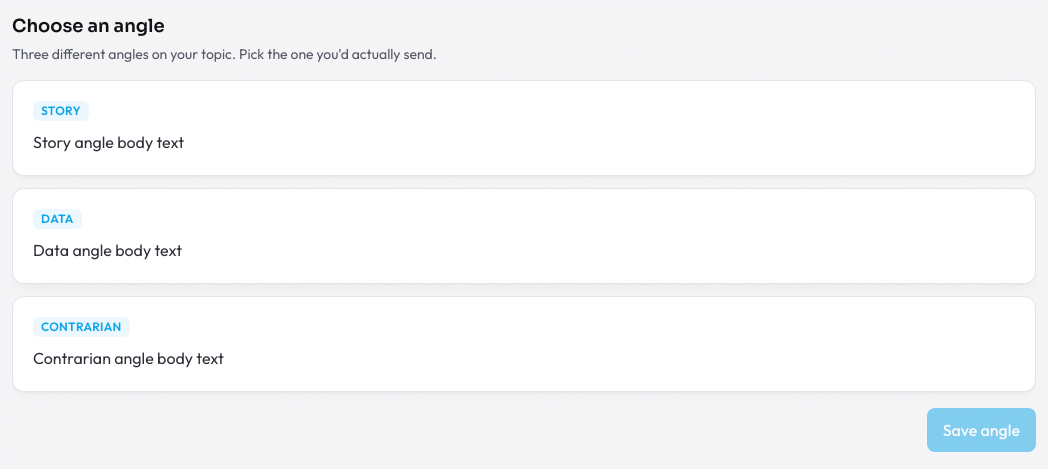
AngleSelection › awaiting selection (selectedOptionId === null) › enables the Save angle button once a card is selected
The image size is (1048, 469).
Click the radio button labelled "Story Story angle body text". click: [61, 111]
box: x1=12 y1=80 x2=1036 y2=176
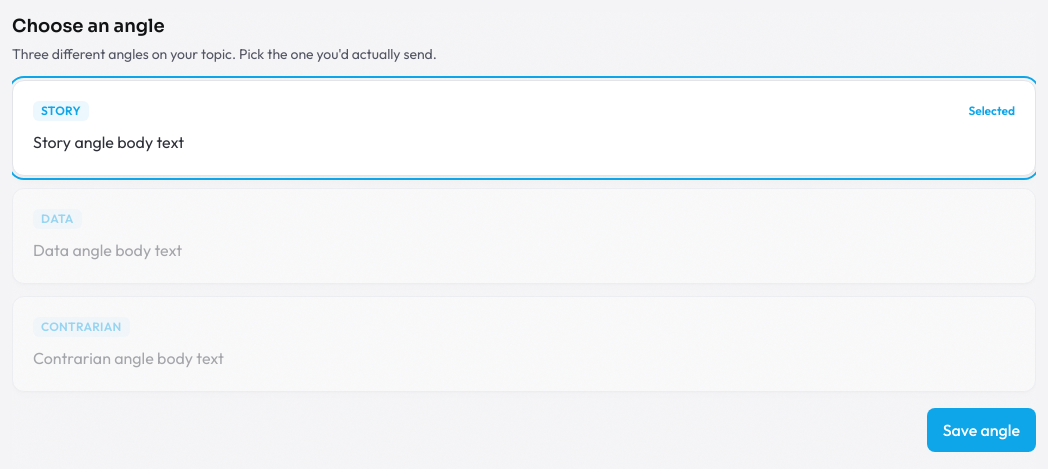
Check: the button "Save angle" is enabled, box x1=927 y1=408 x2=1036 y2=452
